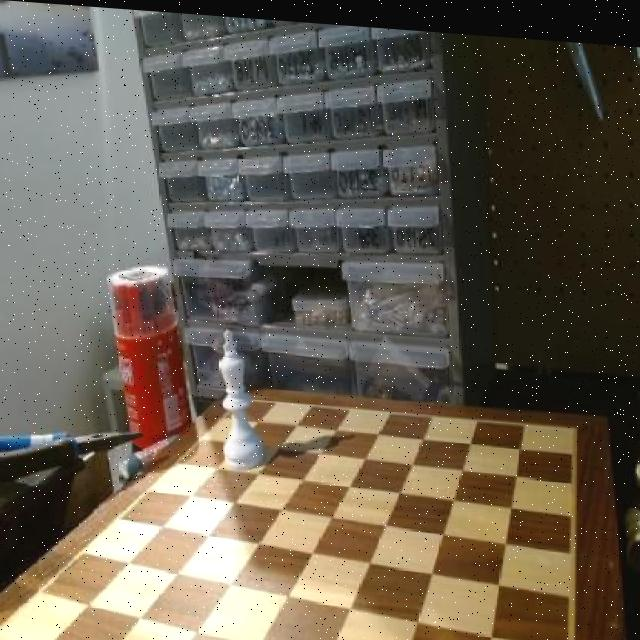white-bishop: (212, 320, 263, 469)
